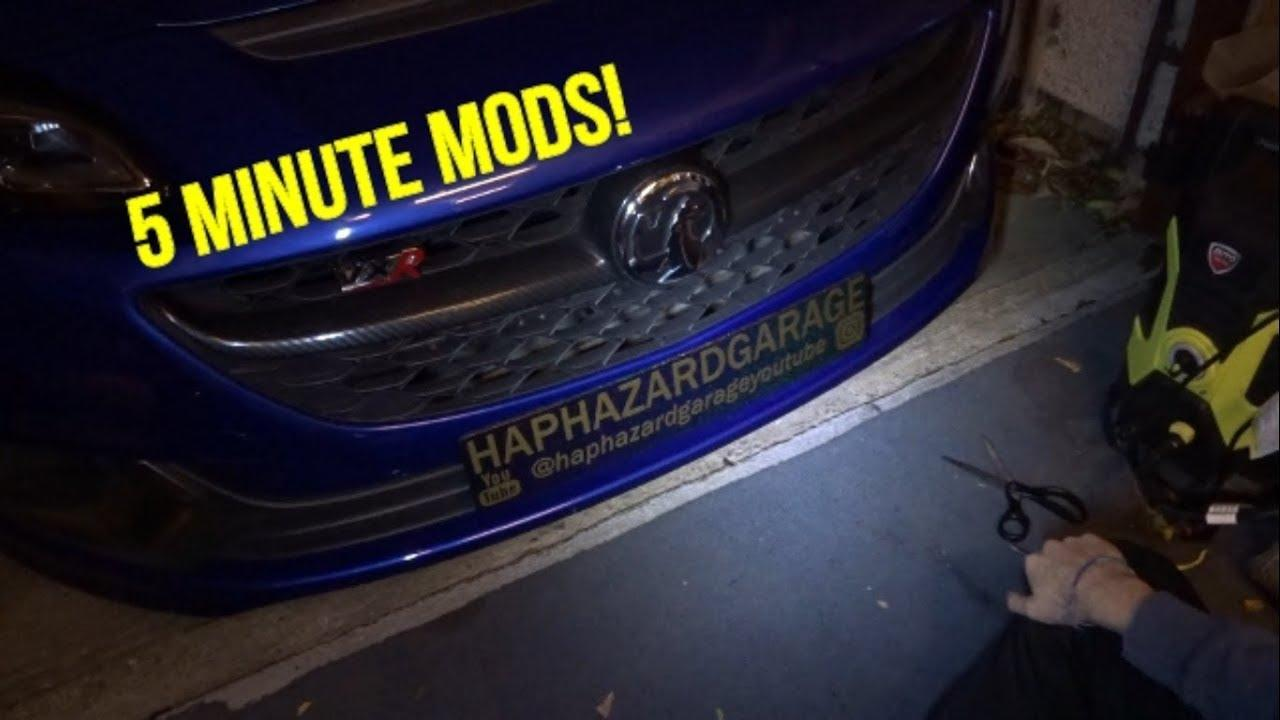bienso: (422, 262, 917, 534)
